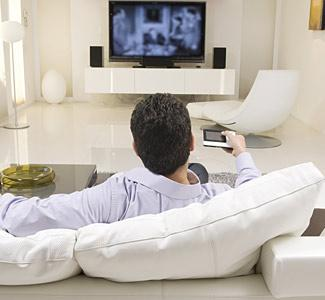person: (4, 95, 263, 240)
